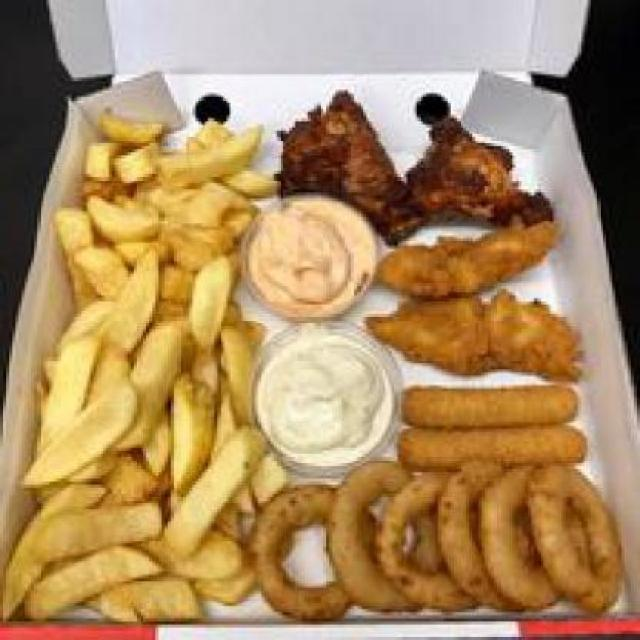chicken wings: (258, 72, 580, 373)
french fries: (28, 93, 277, 612)
onion rings: (242, 470, 630, 612)
